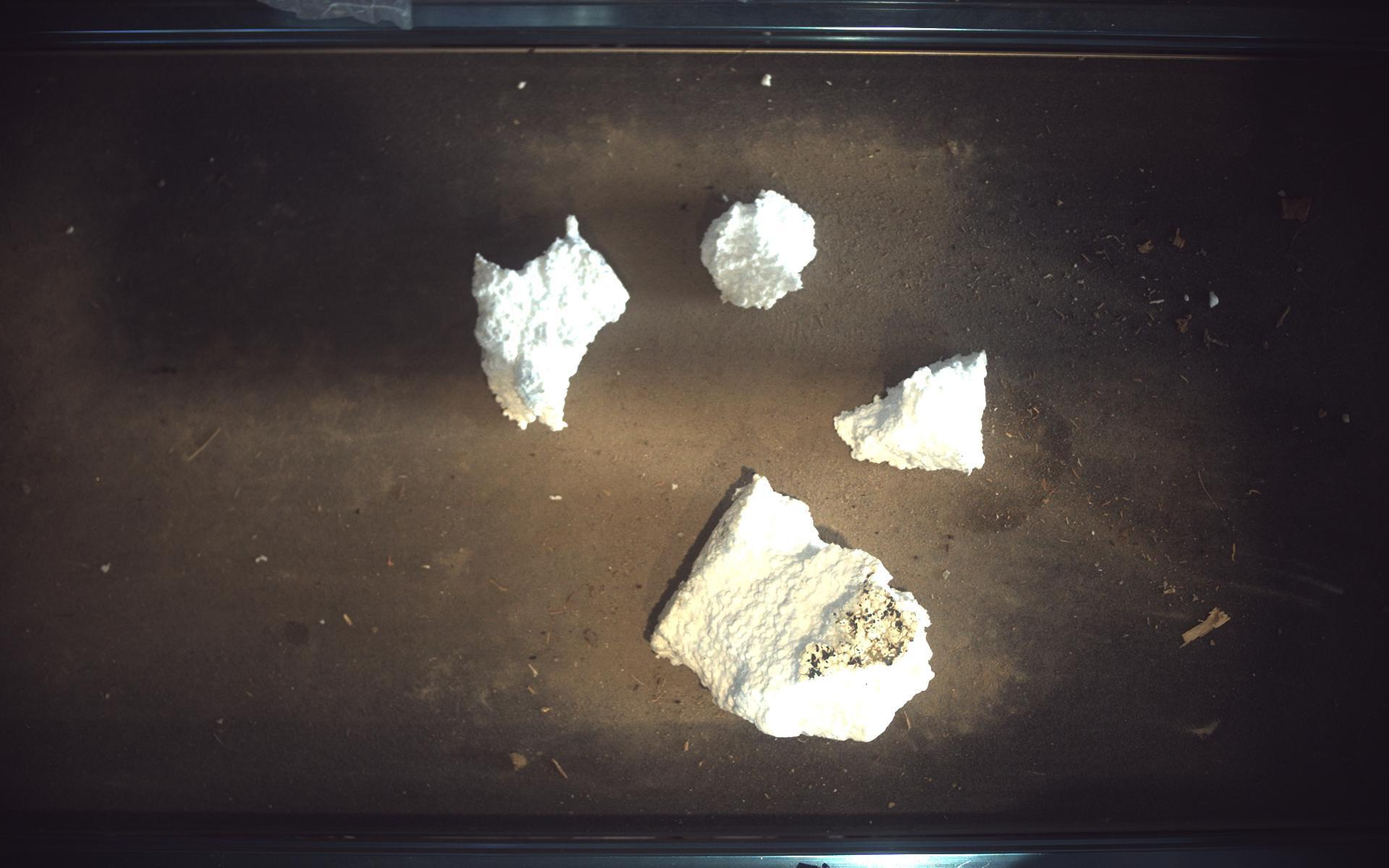foam: (652, 475, 935, 743), (472, 214, 630, 431), (836, 351, 988, 475), (702, 190, 818, 309)
